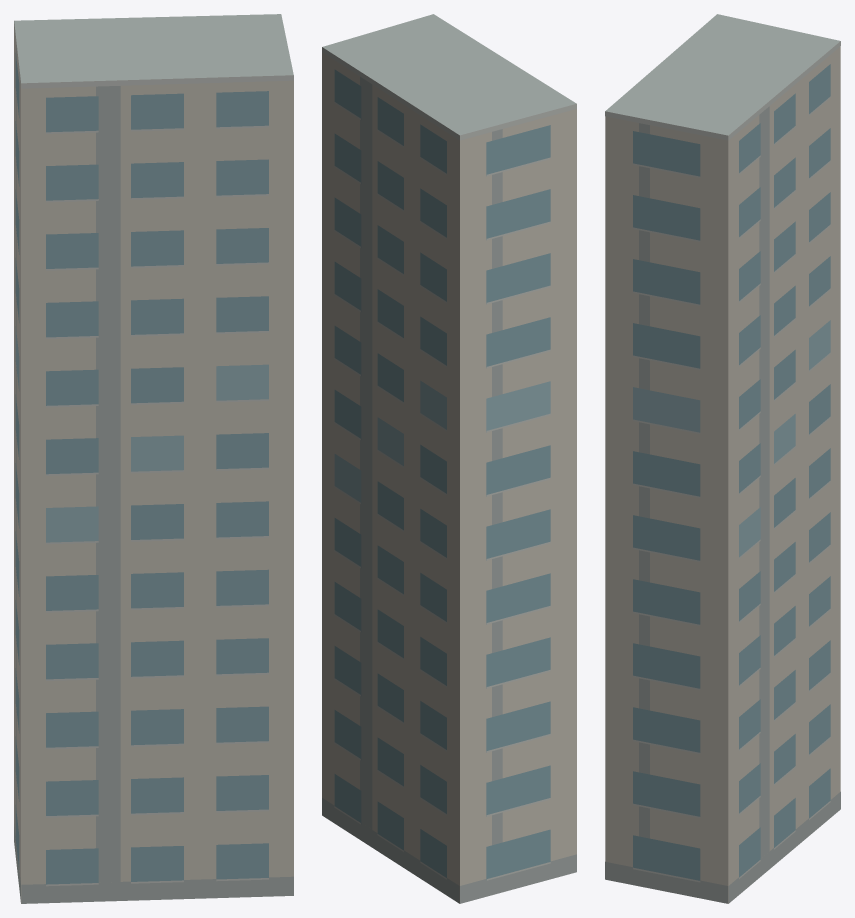
File: survey-upis-32953034.glb
The picture shows the model from 3 angles, left to right: view 1: azimuth 30°, elevation 25°; view 2: azimuth 150°, elevation 25°; view 3: azimuth 270°, elevation 25°; orthographic projection. The views are drawn at different scales.
Visible parts, largest first — view 1: survey-upis-32953034.tmp; view 2: survey-upis-32953034.tmp; view 3: survey-upis-32953034.tmp.
Part boxes in pixels (x1,y1,x2,y2): survey-upis-32953034.tmp: [14, 14, 293, 903]; survey-upis-32953034.tmp: [322, 14, 576, 903]; survey-upis-32953034.tmp: [605, 14, 840, 903].
Size of the model in its own units: 12.43 by 36.6 by 10.18.
